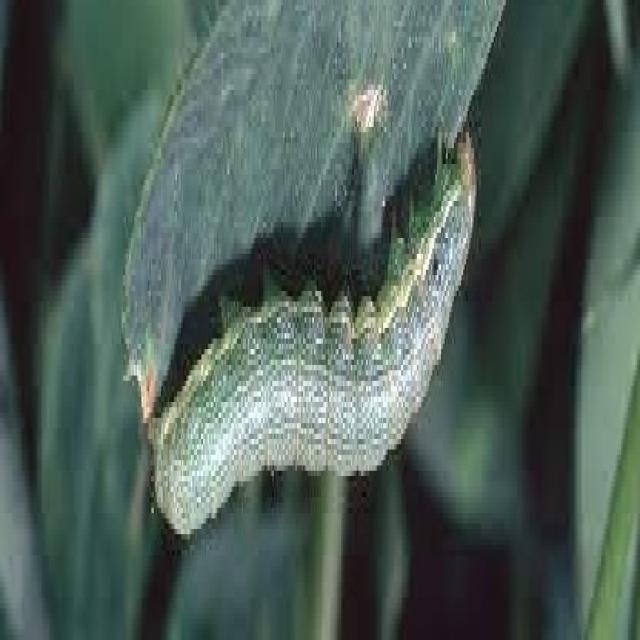armyworm: (146, 121, 479, 540)
